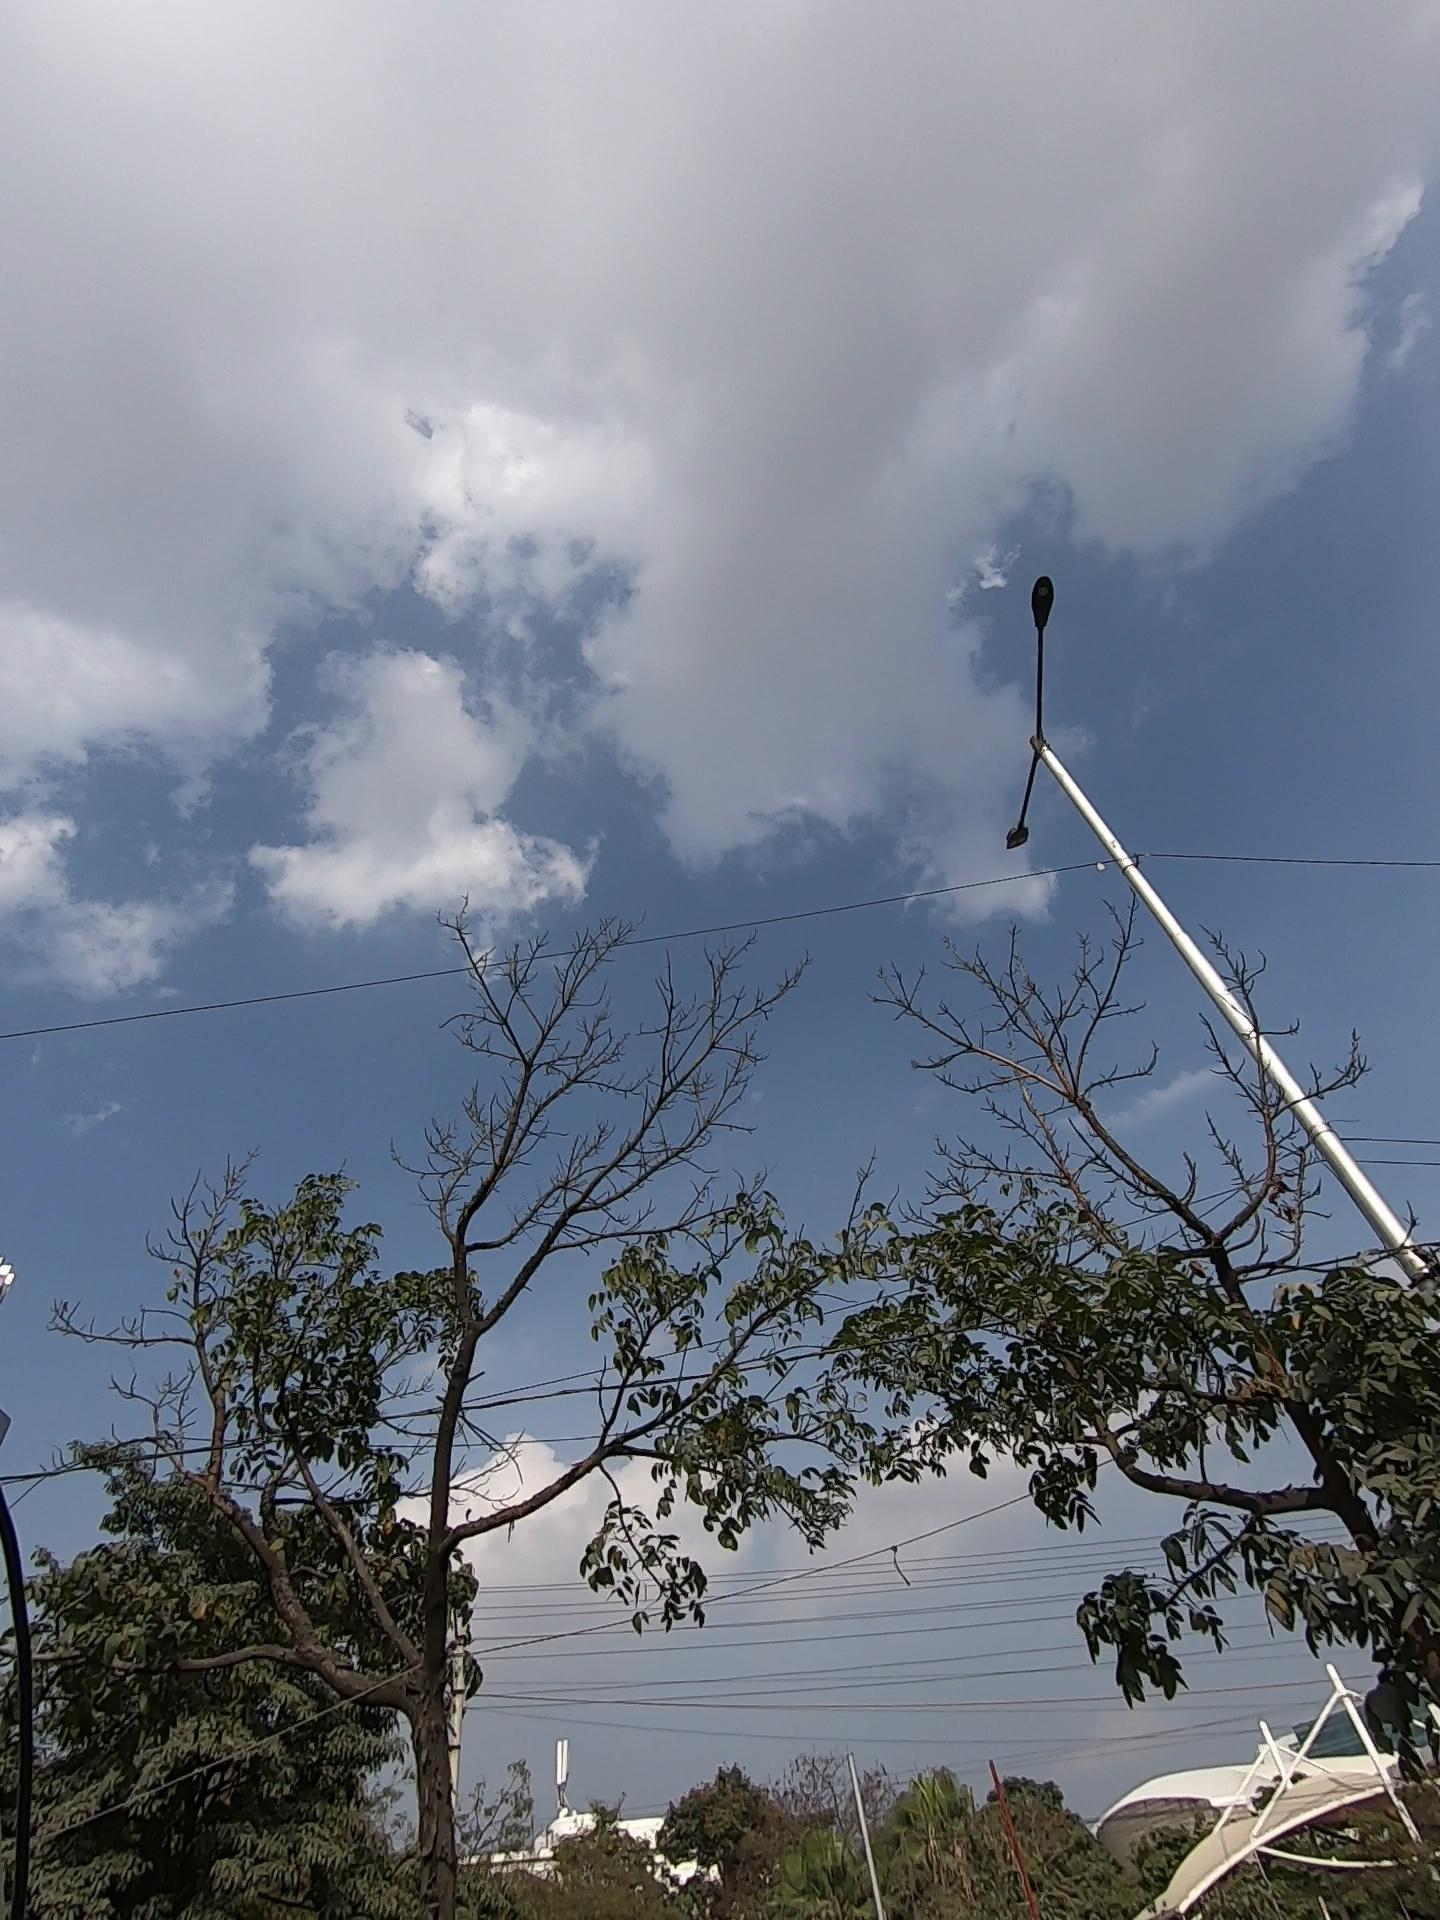off: (954, 511, 1168, 907)
